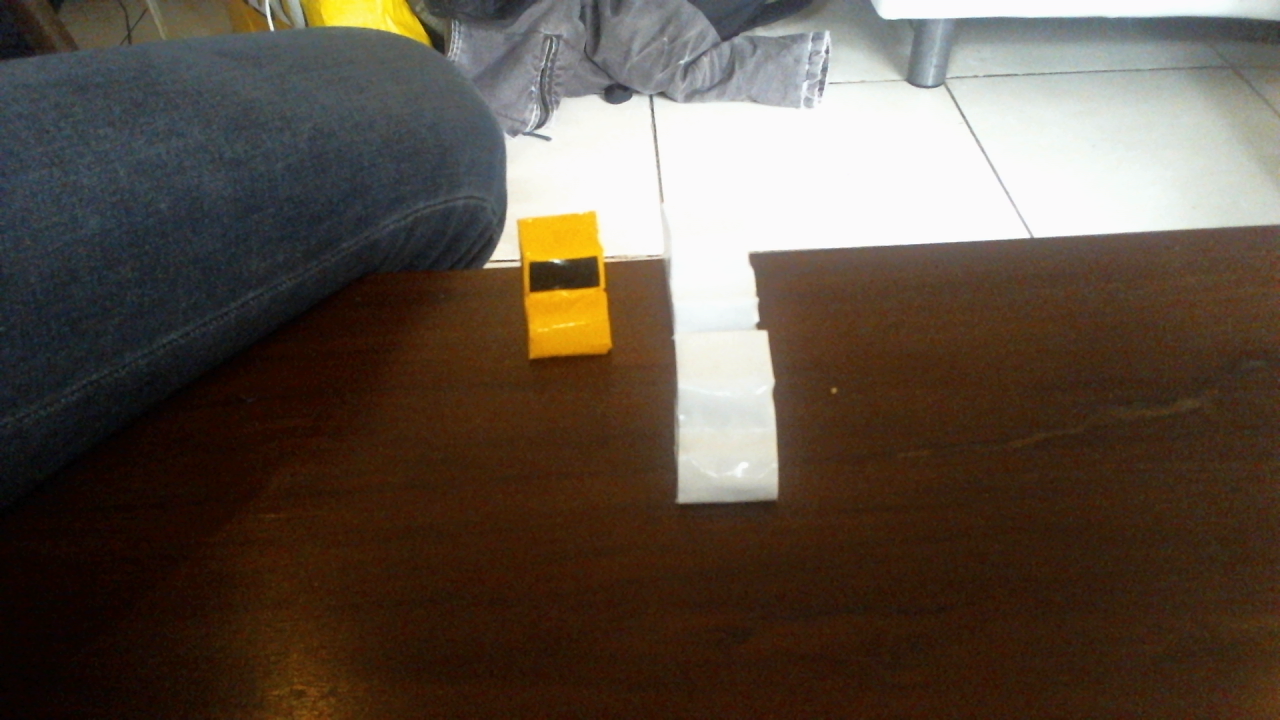Kijang Kapsul: (486, 203, 645, 364)
